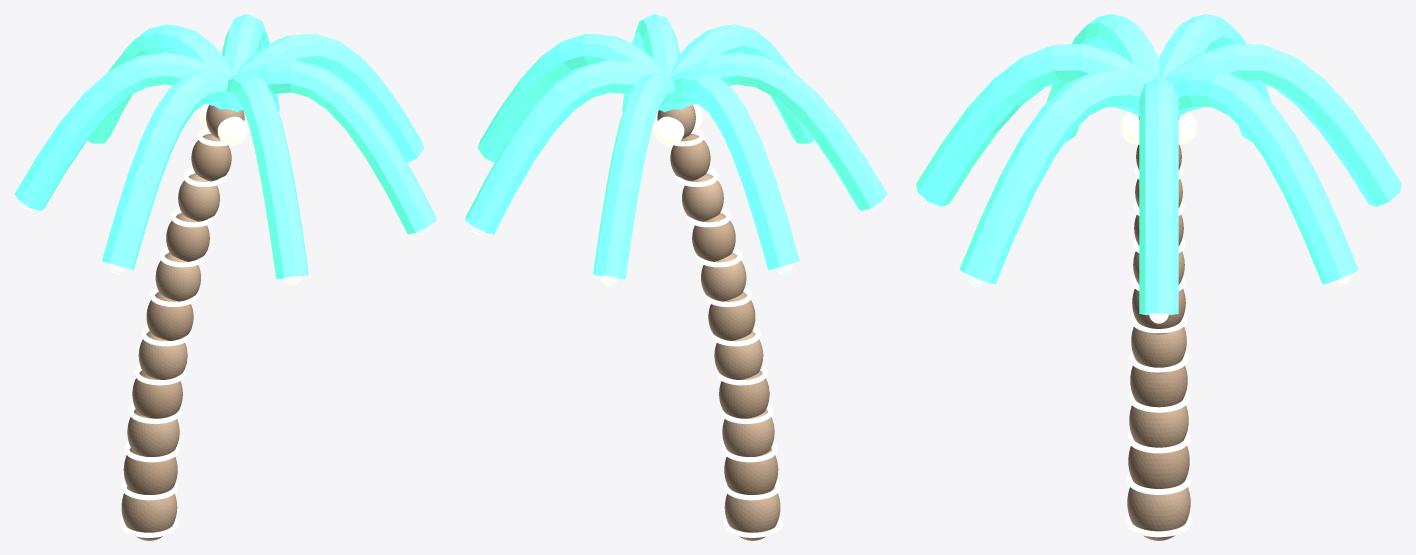
File: neon-palm.glb
3 views of the same model, side by side, from view 1: azimuth 30°, elevation 25°; view 2: azimuth 150°, elevation 25°; view 3: azimuth 270°, elevation 25° (orthographic). The views are drawn at different scales.
Visible parts, largest first — view 1: leaf_1, leaf_3, leaf_4, leaf_2, leaf_0, leaf_5, trunk_0, leaf_6, trunk_1, trunk_2, trunk_3, trunk_4 (+7 smaller); view 2: leaf_6, leaf_4, leaf_3, leaf_5, leaf_0, leaf_2, trunk_0, leaf_1, trunk_1, trunk_2, trunk_3, trunk_4 (+7 smaller); view 3: leaf_1, leaf_6, leaf_2, leaf_5, leaf_0, leaf_3, leaf_4, trunk_0, trunk_1, trunk_2, trunk_3, trunk_4 (+1 smaller).
Part boxes in pixels (left/top/right/bottom): leaf_1: left=242, top=61, right=436, bottom=234; leaf_3: left=102, top=70, right=230, bottom=270; leaf_4: left=14, top=52, right=230, bottom=210; leaf_2: left=226, top=72, right=308, bottom=279; leaf_0: left=234, top=33, right=423, bottom=162; leaf_5: left=87, top=24, right=231, bottom=143; trunk_0: left=121, top=487, right=177, bottom=540; leaf_6: left=222, top=14, right=279, bottom=111; trunk_1: left=123, top=448, right=177, bottom=494; trunk_2: left=127, top=409, right=179, bottom=456; trunk_3: left=132, top=370, right=182, bottom=418; trunk_4: left=138, top=331, right=187, bottom=379; leaf_6: left=465, top=61, right=659, bottom=234; leaf_4: left=671, top=70, right=799, bottom=270; leaf_3: left=671, top=52, right=887, bottom=210; leaf_5: left=593, top=72, right=675, bottom=279; leaf_0: left=478, top=33, right=667, bottom=162; leaf_2: left=670, top=24, right=814, bottom=143; trunk_0: left=724, top=487, right=780, bottom=540; leaf_1: left=622, top=14, right=679, bottom=111; trunk_1: left=724, top=448, right=778, bottom=494; trunk_2: left=722, top=409, right=774, bottom=456; trunk_3: left=719, top=370, right=769, bottom=418; trunk_4: left=714, top=331, right=763, bottom=379; leaf_1: left=959, top=70, right=1152, bottom=284; leaf_6: left=1165, top=70, right=1358, bottom=284; leaf_2: left=916, top=44, right=1153, bottom=206; leaf_5: left=1164, top=44, right=1401, bottom=206; leaf_0: left=1139, top=77, right=1178, bottom=314; leaf_3: left=1046, top=14, right=1158, bottom=142; leaf_4: left=1159, top=14, right=1271, bottom=142; trunk_0: left=1127, top=487, right=1190, bottom=540; trunk_1: left=1128, top=446, right=1189, bottom=488; trunk_2: left=1129, top=405, right=1188, bottom=447; trunk_3: left=1130, top=366, right=1187, bottom=407; trunk_4: left=1131, top=327, right=1186, bottom=373.
Bounding box in the file's own units: 3.89 × 4.82 × 3.98.
